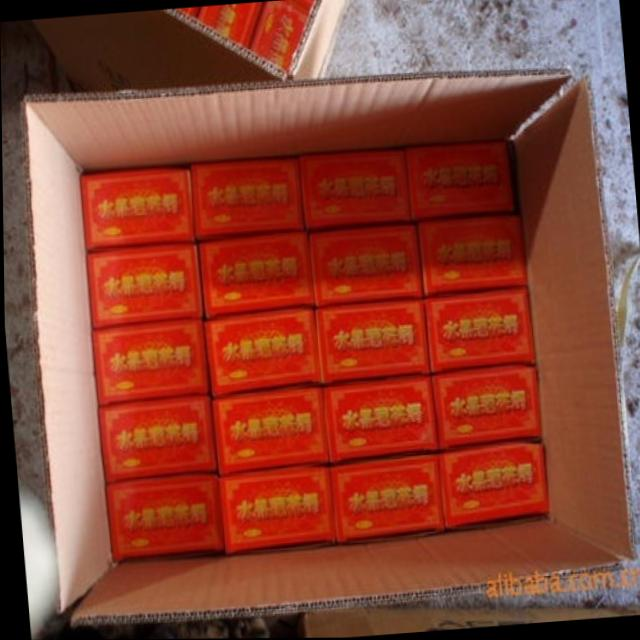box: (20, 72, 634, 626), (31, 0, 322, 91), (328, 451, 445, 547), (95, 393, 217, 485), (215, 462, 337, 554), (210, 382, 330, 472), (202, 303, 319, 395), (322, 370, 439, 462), (104, 471, 222, 562), (314, 293, 430, 384), (90, 321, 208, 407), (195, 233, 311, 320), (304, 219, 424, 302), (80, 163, 193, 250), (83, 242, 200, 326), (438, 439, 548, 528), (431, 359, 539, 449), (186, 154, 302, 237), (422, 285, 533, 370), (415, 211, 526, 292), (300, 149, 410, 227), (407, 140, 513, 219), (245, 1, 315, 67), (291, 0, 345, 79), (195, 6, 264, 48), (176, 8, 201, 18)
